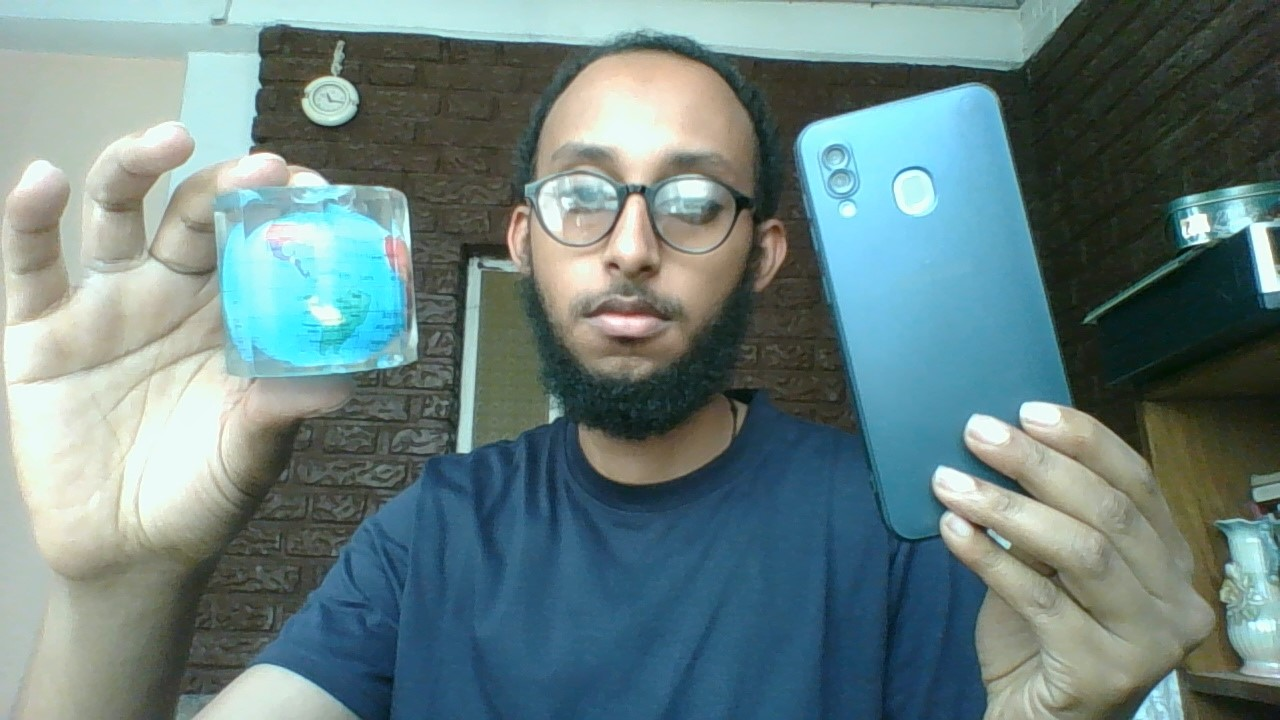Smart_phone: (785, 72, 1109, 546)
world_globe: (196, 178, 436, 385)
